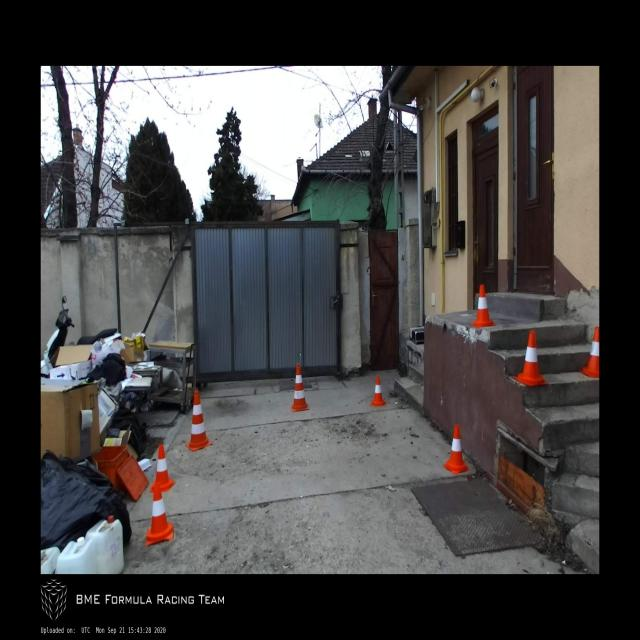large_orange_cone: (185, 390, 212, 451), (291, 364, 309, 412)
orange_cone: (513, 331, 548, 386), (146, 482, 173, 546), (442, 424, 470, 474), (150, 445, 176, 492), (471, 284, 496, 328), (580, 326, 599, 378), (369, 376, 386, 406)
